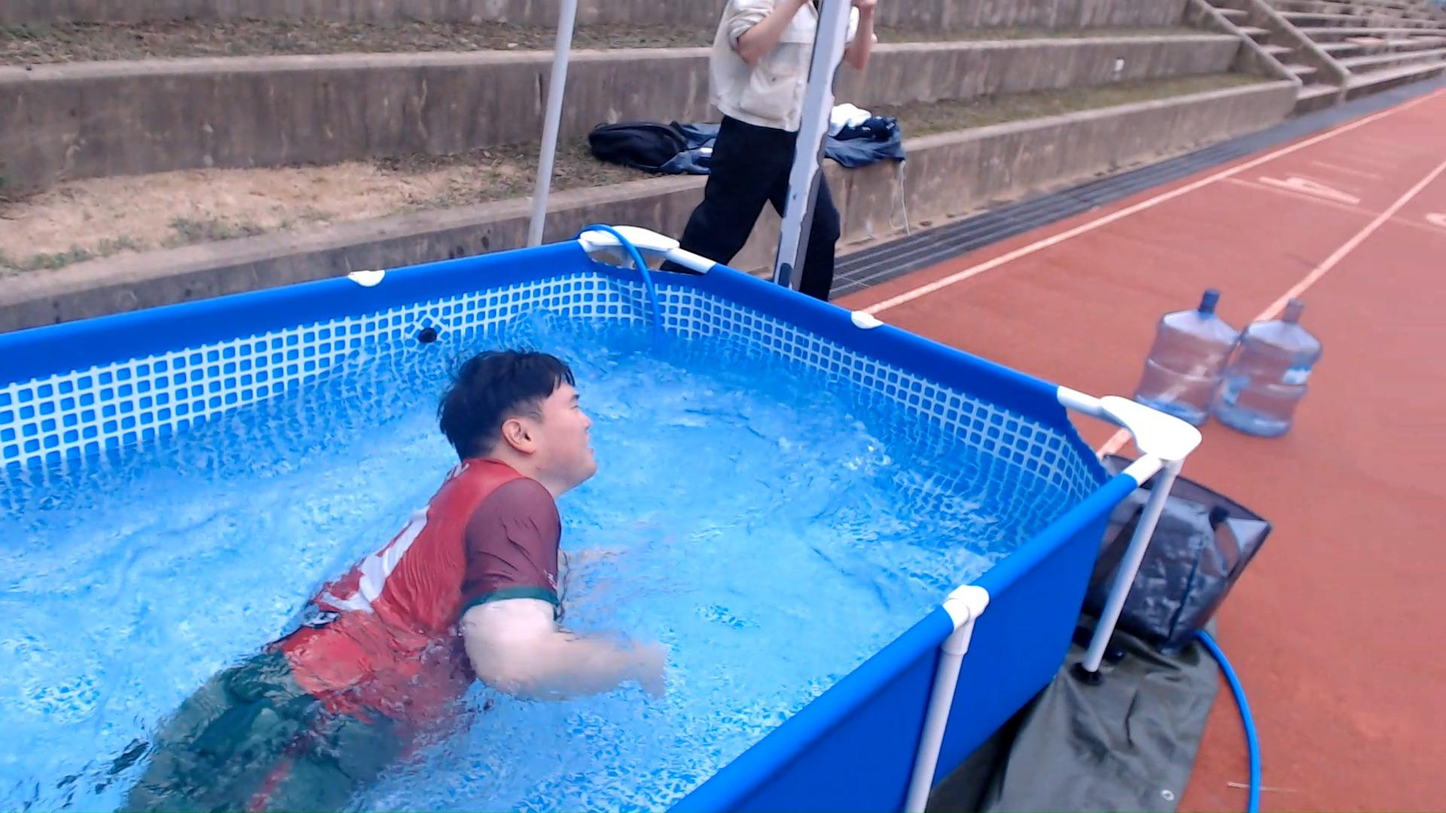Drowning: (77, 300, 671, 813)
